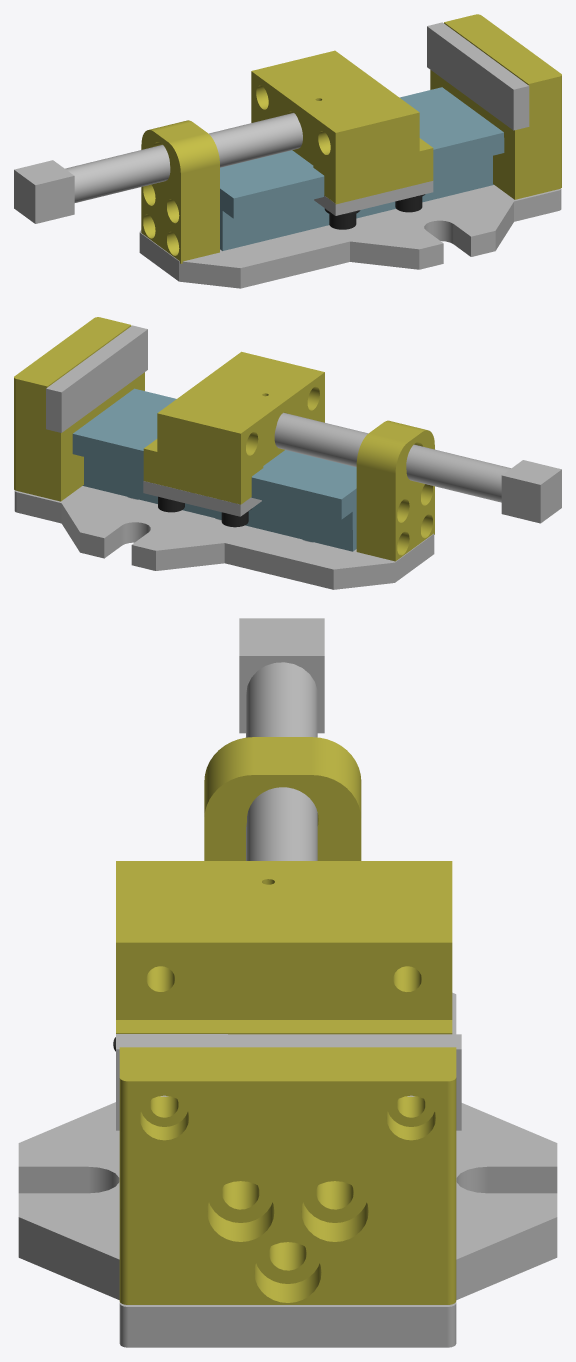
File: Machine_Vice.glb
3 views of the same model, one above another, from view 1: azimuth 30°, elevation 25°; view 2: azimuth 150°, elevation 25°; view 3: azimuth 270°, elevation 25° (orthographic). The views are drawn at different scales.
Visible parts, largest first — view 1: Part8-grundplatte, Part3-lose backe, Part1 Fuhrung, Part7-TrapezSpindel, Part2 Feste Backe, Part4 spindelsockel, Part5-Spannbacke, Part6-fuhrungschiene02, Part9-Druckhulse02, Part9-Druckhulse03; view 2: Part8-grundplatte, Part3-lose backe, Part1 Fuhrung, Part7-TrapezSpindel, Part2 Feste Backe, Part4 spindelsockel, Part5-Spannbacke, Part6-fuhrungschiene01, Part9-Druckhulse01; view 3: Part2 Feste Backe, Part3-lose backe, Part8-grundplatte, Part7-TrapezSpindel, Part4 spindelsockel, Part5-Spannbacke.
Boxes of the visible parts, x1,y1,x2,y2 form: Part8-grundplatte: [139, 185, 561, 288]; Part3-lose backe: [251, 50, 433, 204]; Part1 Fuhrung: [220, 87, 504, 250]; Part7-TrapezSpindel: [14, 113, 302, 223]; Part2 Feste Backe: [430, 14, 561, 199]; Part4 spindelsockel: [141, 120, 219, 263]; Part5-Spannbacke: [427, 22, 529, 130]; Part6-fuhrungschiene02: [314, 181, 433, 215]; Part9-Druckhulse02: [324, 208, 360, 229]; Part9-Druckhulse03: [395, 194, 425, 212]; Part8-grundplatte: [14, 486, 434, 589]; Part3-lose backe: [143, 351, 324, 504]; Part1 Fuhrung: [72, 388, 356, 551]; Part7-TrapezSpindel: [274, 412, 561, 523]; Part2 Feste Backe: [14, 317, 144, 501]; Part4 spindelsockel: [356, 420, 434, 561]; Part5-Spannbacke: [46, 325, 147, 432]; Part6-fuhrungschiene01: [143, 481, 261, 516]; Part9-Druckhulse01: [221, 508, 251, 527]; Part2 Feste Backe: [119, 1047, 456, 1304]; Part3-lose backe: [116, 861, 452, 1034]; Part8-grundplatte: [18, 992, 557, 1347]; Part7-TrapezSpindel: [239, 618, 324, 860]; Part4 spindelsockel: [204, 737, 361, 860]; Part5-Spannbacke: [116, 1034, 461, 1130].
Bounding box in the file's own units: 0.255 × 0.0657 × 0.12.
